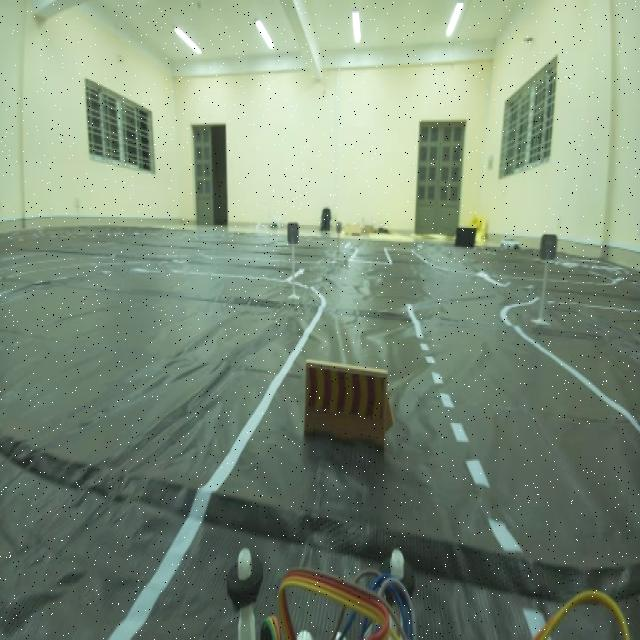roadblock: (299, 353, 400, 468)
